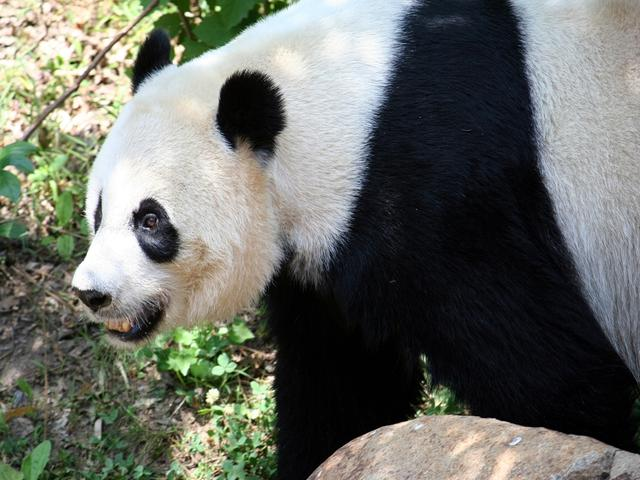panda: (35, 12, 616, 419)
